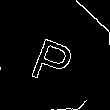P_N: (28, 25, 82, 85)
